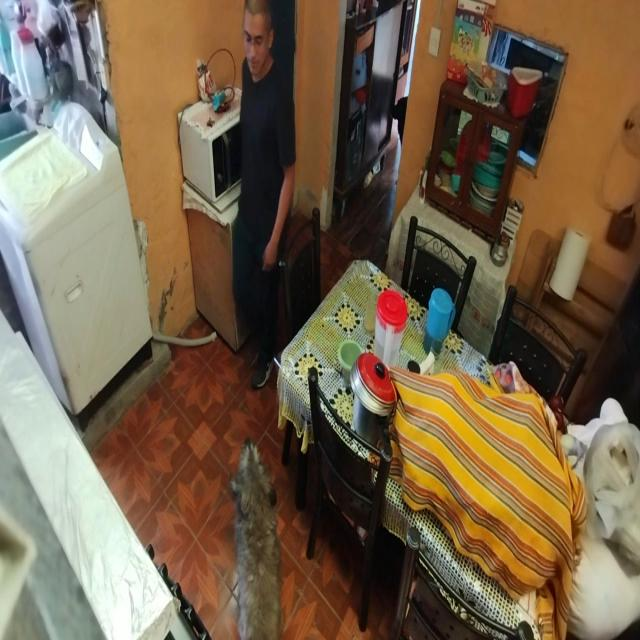adult: (229, 2, 300, 402)
